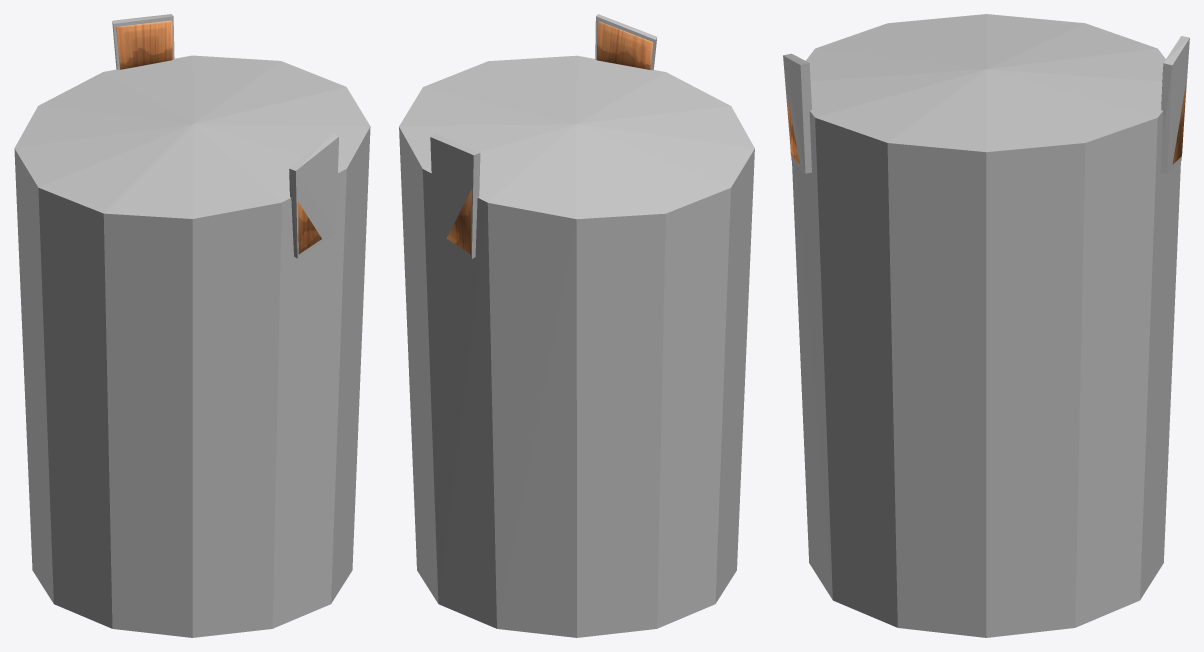
File: SM_BarrelWooden02_1.fbx
3 renders of one model, left to right at view 1: azimuth 30°, elevation 25°; view 2: azimuth 150°, elevation 25°; view 3: azimuth 270°, elevation 25°, orthographic. The views are drawn at different scales.
Visible parts, largest first — view 1: SM_BarrelWooden02_1_ConvexHulls, SM_BarrelWooden02_1; view 2: SM_BarrelWooden02_1_ConvexHulls, SM_BarrelWooden02_1; view 3: SM_BarrelWooden02_1_ConvexHulls, SM_BarrelWooden02_1.
Part boxes in pixels (left/top/right/bottom): SM_BarrelWooden02_1_ConvexHulls: left=14, top=14, right=370, bottom=637; SM_BarrelWooden02_1: left=116, top=20, right=321, bottom=253; SM_BarrelWooden02_1_ConvexHulls: left=399, top=14, right=754, bottom=637; SM_BarrelWooden02_1: left=446, top=21, right=653, bottom=254; SM_BarrelWooden02_1_ConvexHulls: left=783, top=14, right=1189, bottom=637; SM_BarrelWooden02_1: left=786, top=67, right=1186, bottom=164.
Size of the model in its own units: 73.06 by 75.42 by 109.
Materials: 2 (1 with a texture image).
